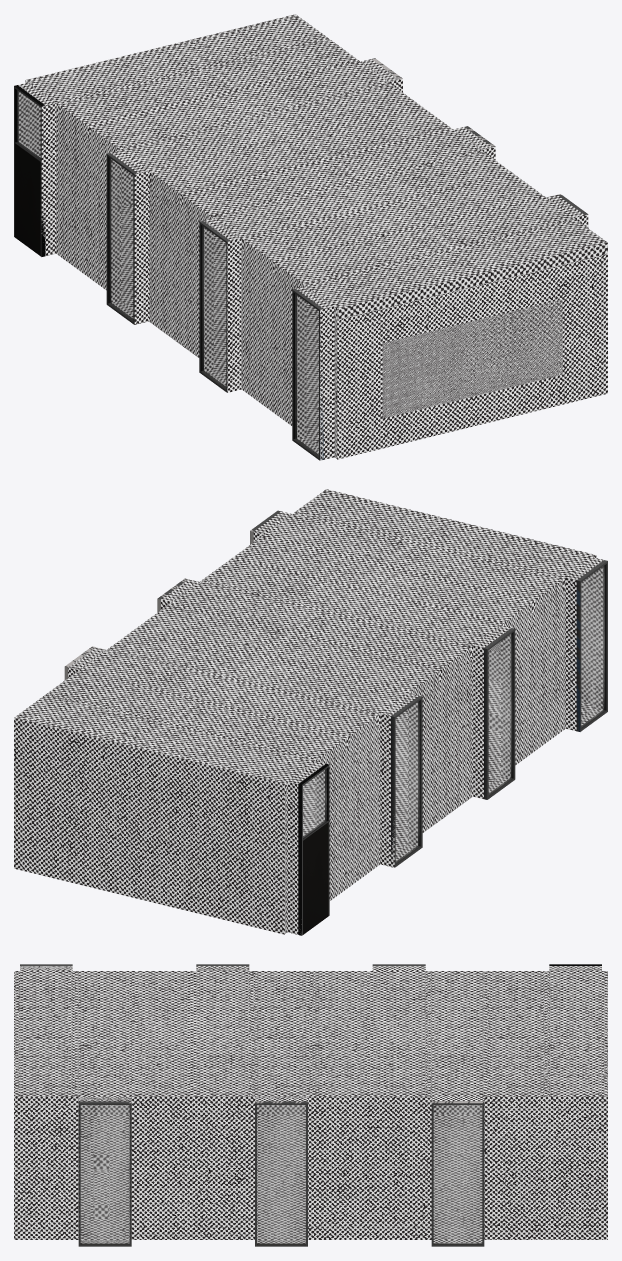
Rendered from halftexture.glb.
The picture shows the model from 3 angles, top to bottom: view 1: azimuth 30°, elevation 25°; view 2: azimuth 150°, elevation 25°; view 3: azimuth 270°, elevation 25°; orthographic projection. The views are drawn at different scales.
Parts seen in each view (by area): view 1: floor, walls, paintiing, glass, details; view 2: floor, walls, glass, details; view 3: floor, walls, glass, details.
Part boxes in pixels (x1,y1,x2,y2): floor: [25, 14, 607, 445]; walls: [18, 59, 607, 460]; paintiing: [382, 300, 562, 418]; glass: [17, 90, 318, 455]; details: [14, 58, 587, 460]; floor: [14, 489, 596, 852]; walls: [14, 511, 603, 934]; glass: [303, 565, 604, 862]; details: [64, 510, 607, 935]; floor: [14, 971, 607, 1239]; walls: [14, 966, 607, 1243]; glass: [80, 1105, 481, 1243]; details: [20, 964, 601, 1246].
Bounding box in the file's own units: 5.97 × 2.88 × 10.79.
Materials: 4 (3 with a texture image).
